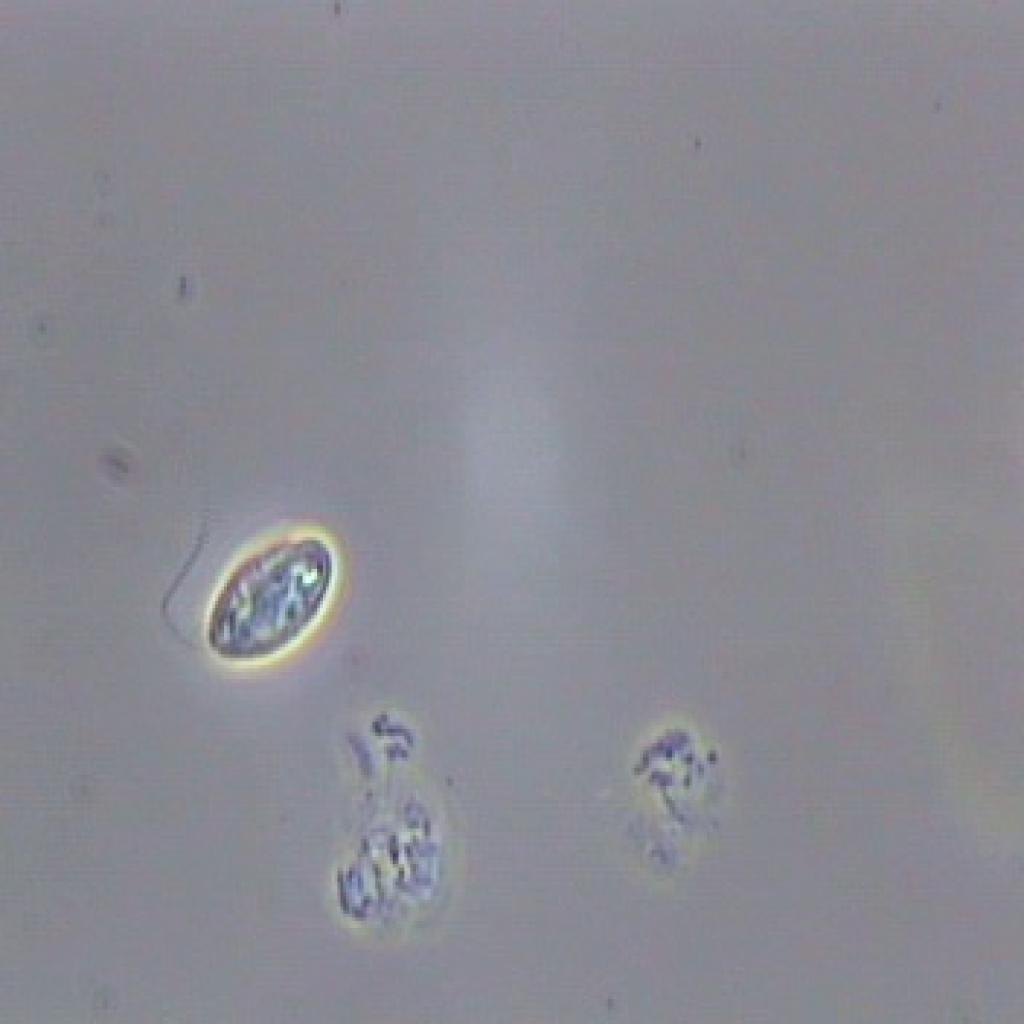Flagellates: (156, 482, 362, 688)
